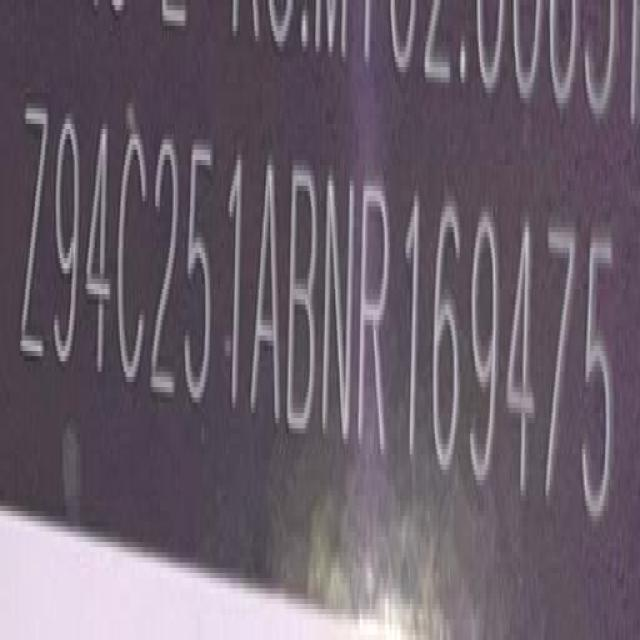1: (403, 185, 427, 474), (224, 147, 244, 422)
2: (153, 128, 182, 407)
4: (507, 211, 538, 509), (87, 112, 115, 382)
5: (584, 230, 619, 535), (184, 135, 216, 413)
6: (432, 194, 463, 482)
7: (545, 215, 577, 525)
9: (468, 207, 501, 496), (54, 110, 82, 378)
A: (255, 156, 283, 428)
B: (290, 155, 322, 438)
C: (118, 124, 148, 397)
N: (322, 162, 356, 447)
R: (362, 173, 394, 462)
Z: (20, 100, 49, 372)
